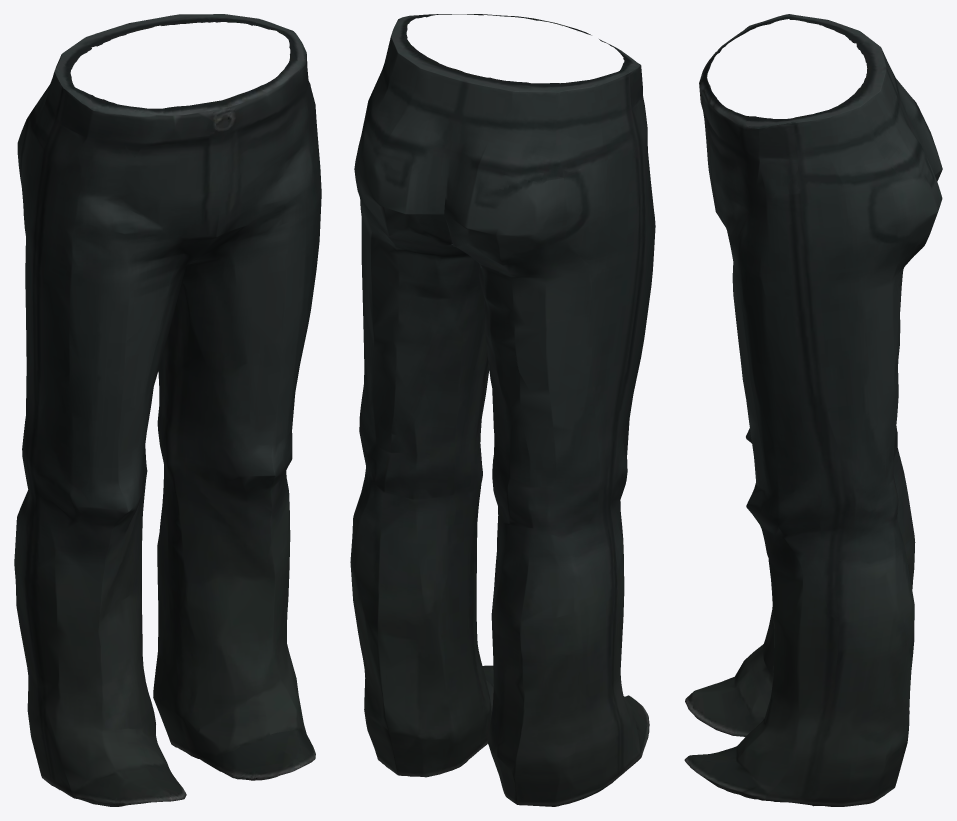
The model's file is mage_m_trousers.glb.
The picture shows the model from 3 angles, left to right: view 1: azimuth 30°, elevation 25°; view 2: azimuth 150°, elevation 25°; view 3: azimuth 270°, elevation 25°; orthographic projection. The views are drawn at different scales.
Visible parts, largest first — view 1: world; view 2: world; view 3: world.
Boxes of the visible parts, x1,y1,x2,y2 form: world: (14,14,321,806); world: (350,14,655,806); world: (684,14,942,806).
Size of the model in its own units: 0.3697 by 0.93 by 0.3148.
1 material, 1 textured.
